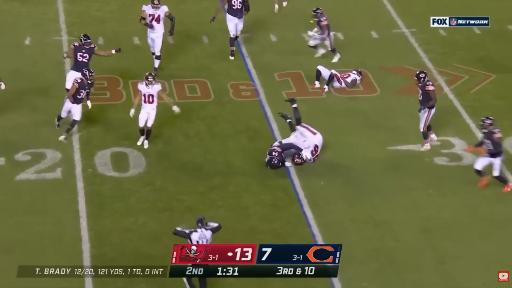Helmet: (266, 156, 283, 169), (480, 117, 494, 130), (82, 69, 94, 83), (415, 71, 428, 83), (292, 153, 305, 165), (80, 34, 91, 46), (145, 73, 155, 85), (312, 8, 323, 18), (151, 0, 161, 10), (353, 70, 362, 78)
Jersey: (295, 124, 322, 162), (476, 127, 502, 157), (143, 5, 169, 33), (71, 43, 96, 72), (138, 82, 162, 109), (72, 78, 92, 104), (419, 80, 435, 109), (335, 72, 361, 87), (226, 0, 245, 18), (316, 15, 331, 37), (272, 140, 298, 151)
Player: (267, 99, 322, 168), (467, 117, 511, 192), (64, 34, 121, 91), (130, 73, 172, 148), (56, 68, 94, 142), (140, 0, 175, 74), (211, 0, 250, 59), (415, 71, 437, 150), (308, 8, 340, 62), (312, 66, 362, 92), (0, 78, 5, 89), (275, 0, 278, 13)
